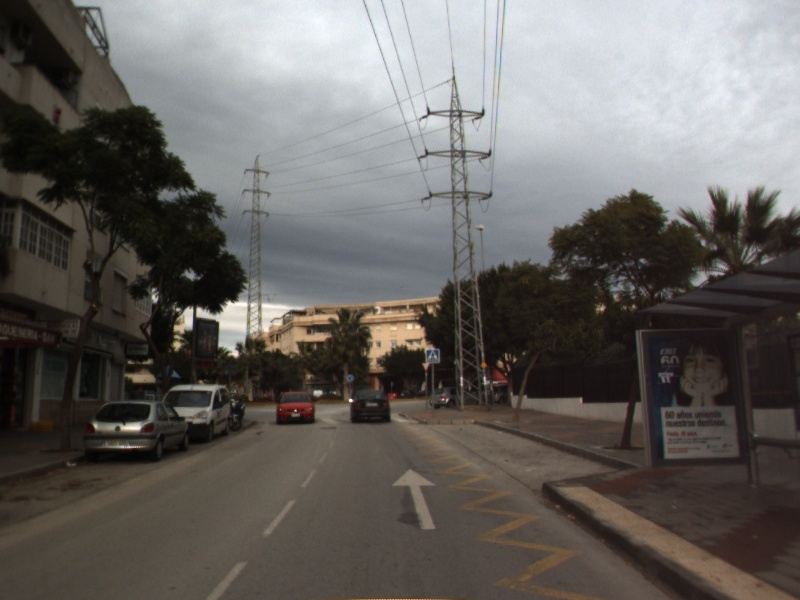STRAIGHT: (389, 466, 439, 531)
